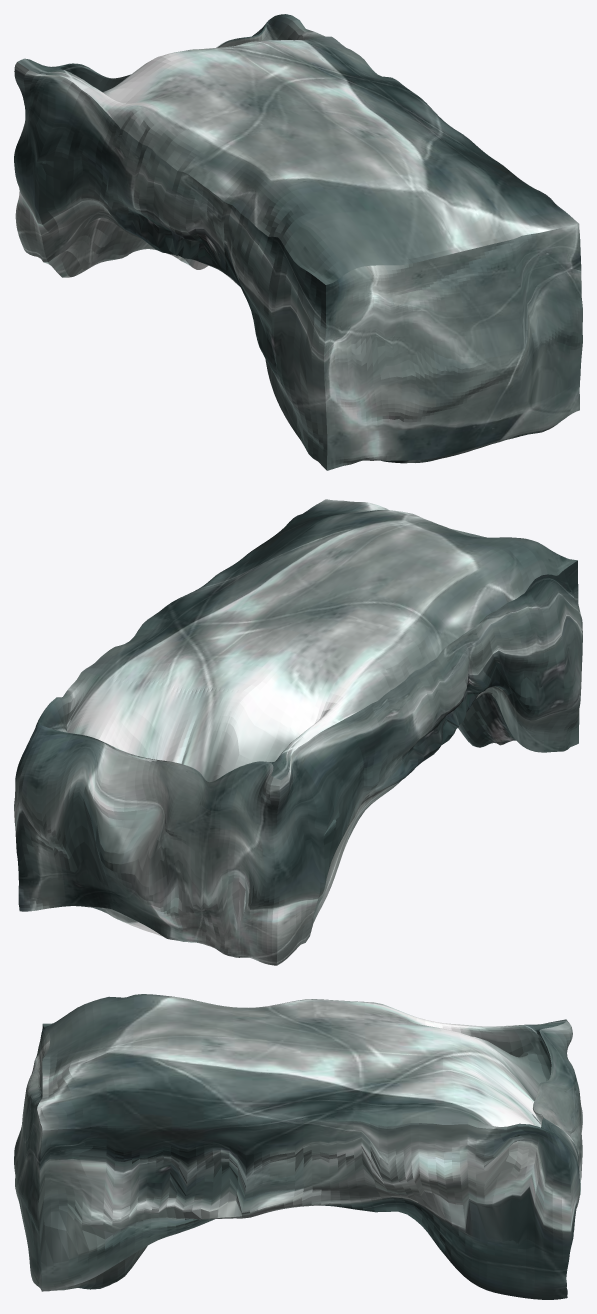
The model's file is IcePath2.fbx.
The picture shows the model from 3 angles, top to bottom: view 1: azimuth 30°, elevation 25°; view 2: azimuth 150°, elevation 25°; view 3: azimuth 270°, elevation 25°; orthographic projection. The views are drawn at different scales.
Parts seen in each view (by area): view 1: Cube.001; view 2: Cube.001; view 3: Cube.001.
Boxes of the visible parts, x1=… form: Cube.001: x1=14, y1=14, x2=582, y2=470; Cube.001: x1=14, y1=499, x2=582, y2=965; Cube.001: x1=14, y1=994, x2=582, y2=1299.
Bounding box in the file's own units: 670 × 593 × 1343.
